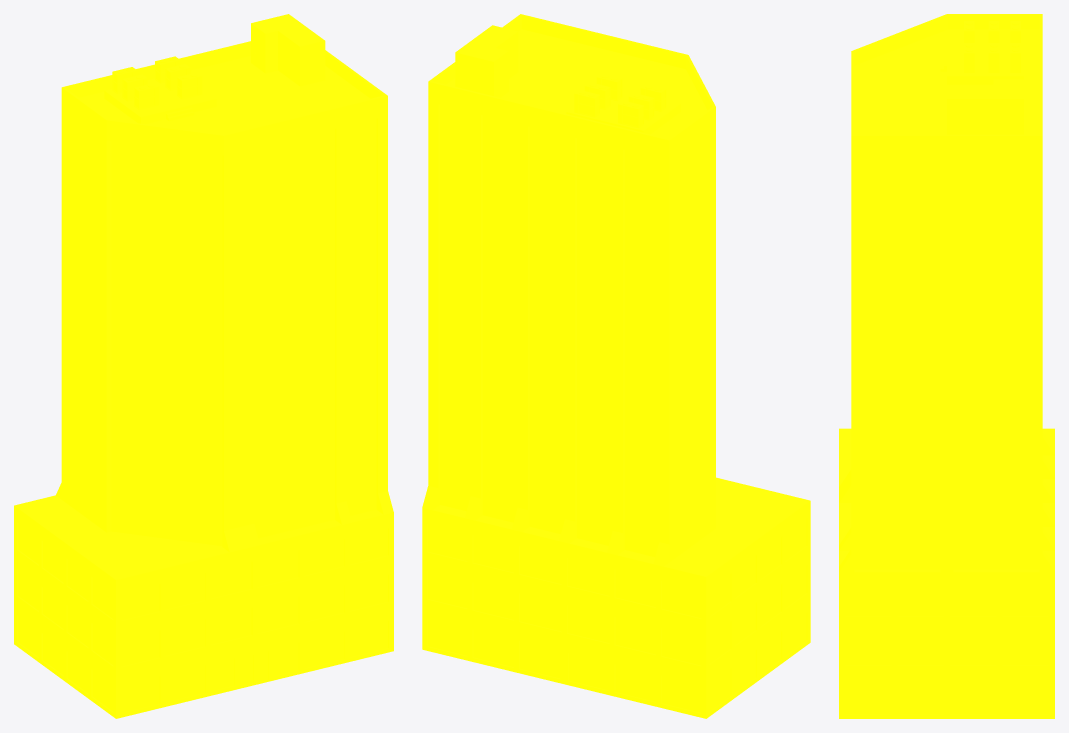
File: building-office.glb
3 views of the same model, side by side, from view 1: azimuth 30°, elevation 25°; view 2: azimuth 150°, elevation 25°; view 3: azimuth 270°, elevation 25° (orthographic). The views are drawn at different scales.
Parts seen in each view (by area): view 1: building-office; view 2: building-office; view 3: building-office.
Boxes of the visible parts, left/top/right/bottom form: building-office: left=14, top=14, right=393, bottom=718; building-office: left=422, top=14, right=810, bottom=718; building-office: left=839, top=14, right=1054, bottom=718.
Size of the model in its own units: 22 by 43.7 by 14.
Materials: 1 (1 with a texture image).
